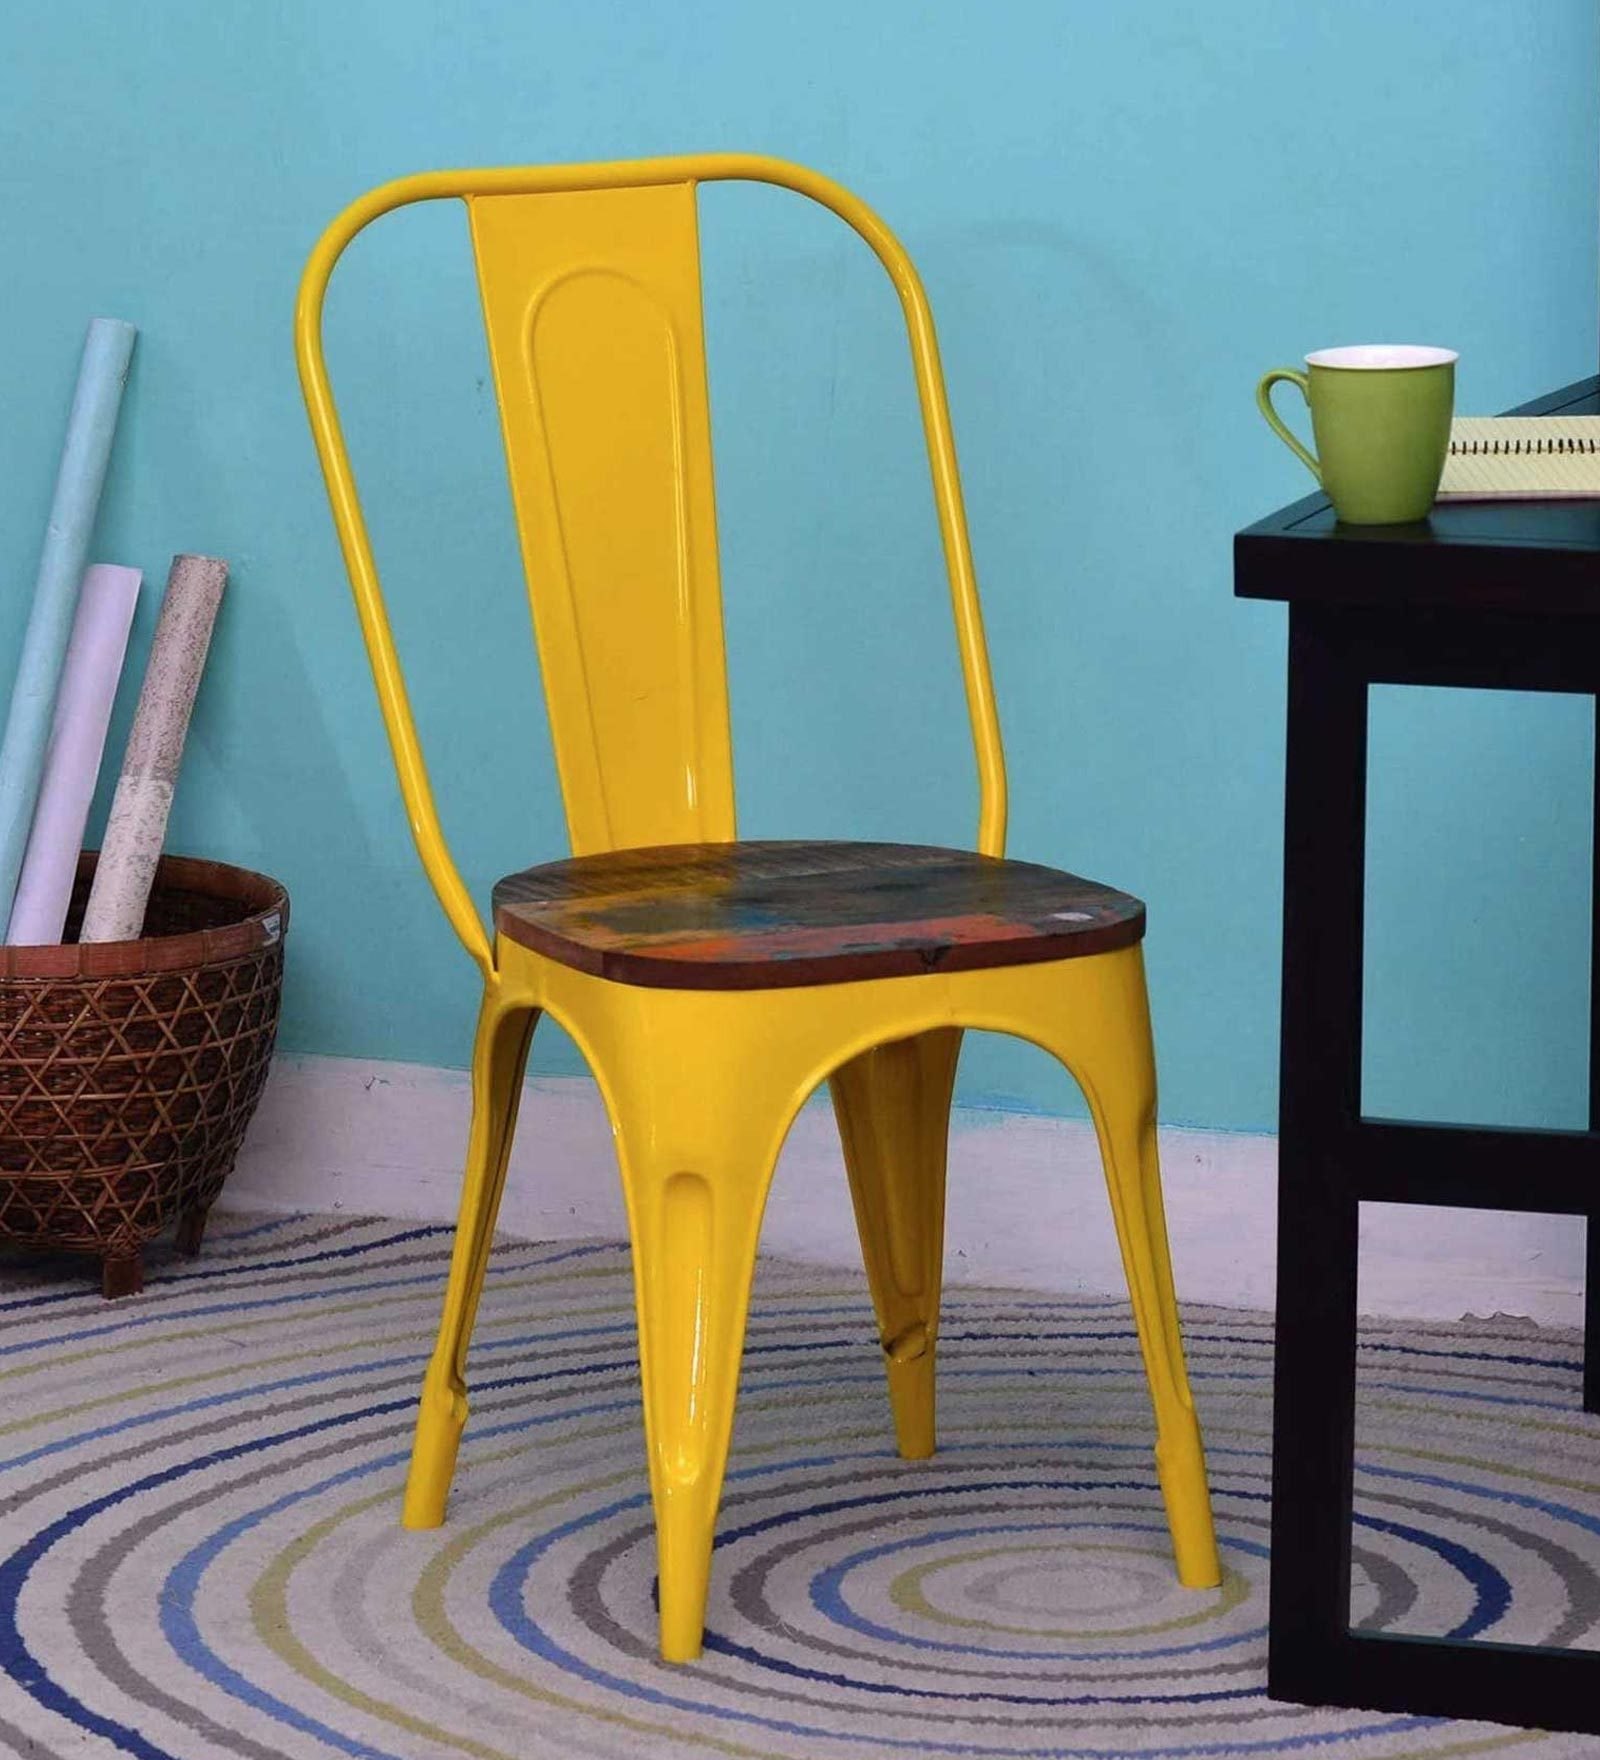Kumtor Metal Chair in Distress Yellow Color with Wooden Seat by Bohemiana: (244, 133, 1274, 1666)
